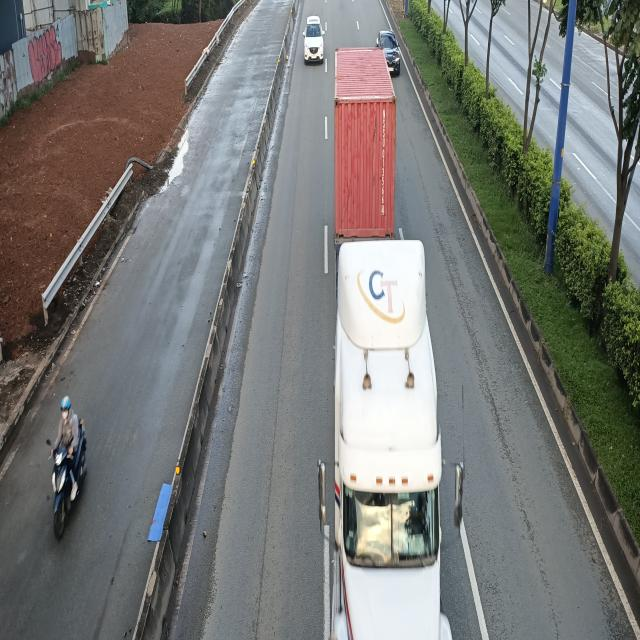car: (304, 15, 327, 66), (375, 29, 401, 73)
container: (322, 47, 475, 640)
